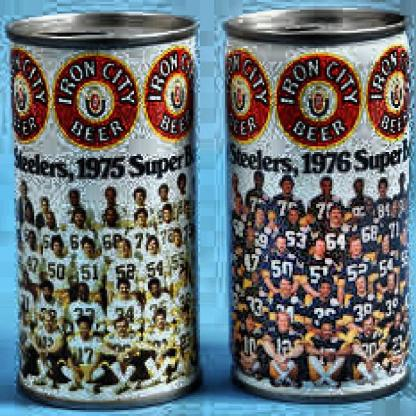Can: (1, 9, 209, 413), (223, 5, 416, 407)
